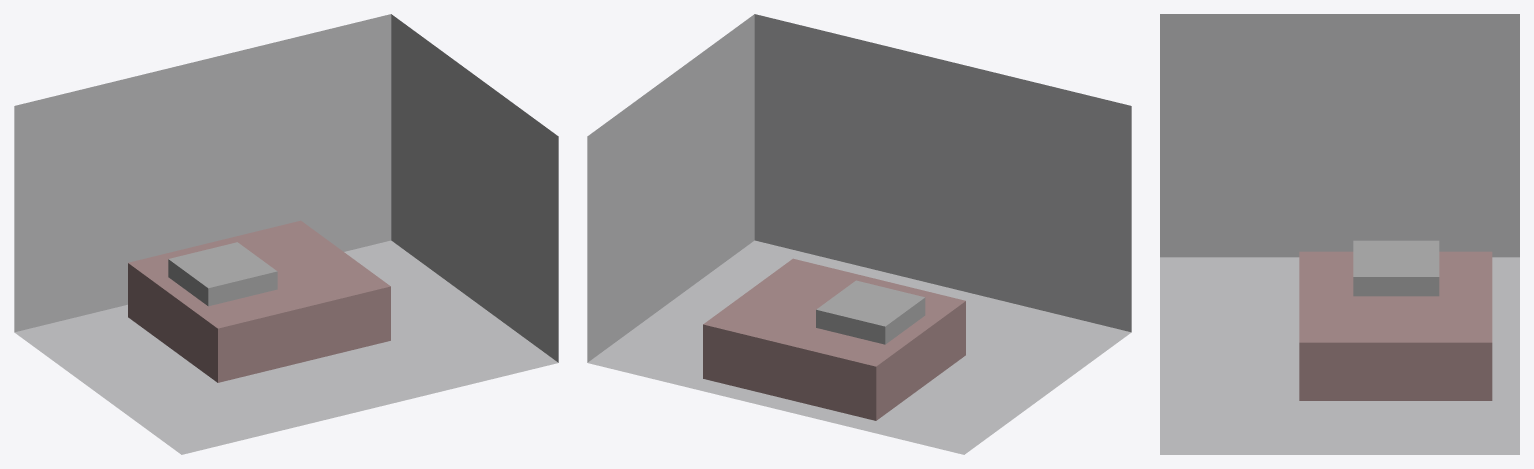
Rendered from current_layout.glb.
3 views of the same model, side by side, from view 1: azimuth 30°, elevation 25°; view 2: azimuth 150°, elevation 25°; view 3: azimuth 270°, elevation 25° (orthographic). The views are drawn at different scales.
Visible parts, largest first — view 1: room, bed, studyTable; view 2: room, bed, studyTable; view 3: room, bed, studyTable.
Part boxes in pixels (x1,y1,x2,y2): room: (14, 14, 558, 454); bed: (128, 220, 390, 382); studyTable: (168, 242, 277, 306); room: (587, 14, 1131, 454); bed: (703, 258, 965, 420); studyTable: (816, 280, 925, 344); room: (1160, 14, 1519, 454); bed: (1299, 251, 1492, 400); studyTable: (1353, 240, 1439, 296).
Size of the model in its own units: 4.36 by 2.5 by 3.35.
